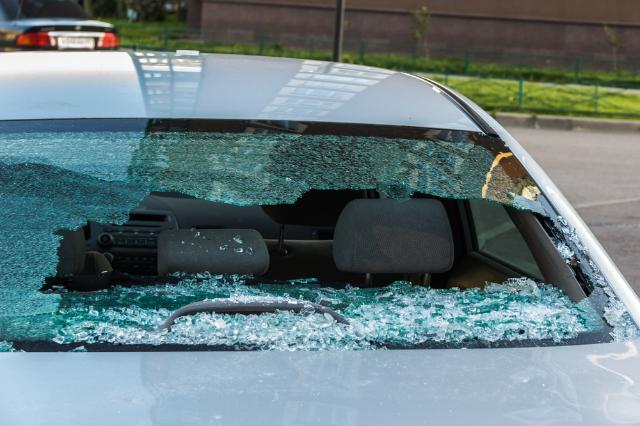glass shatter: (0, 120, 640, 352)
